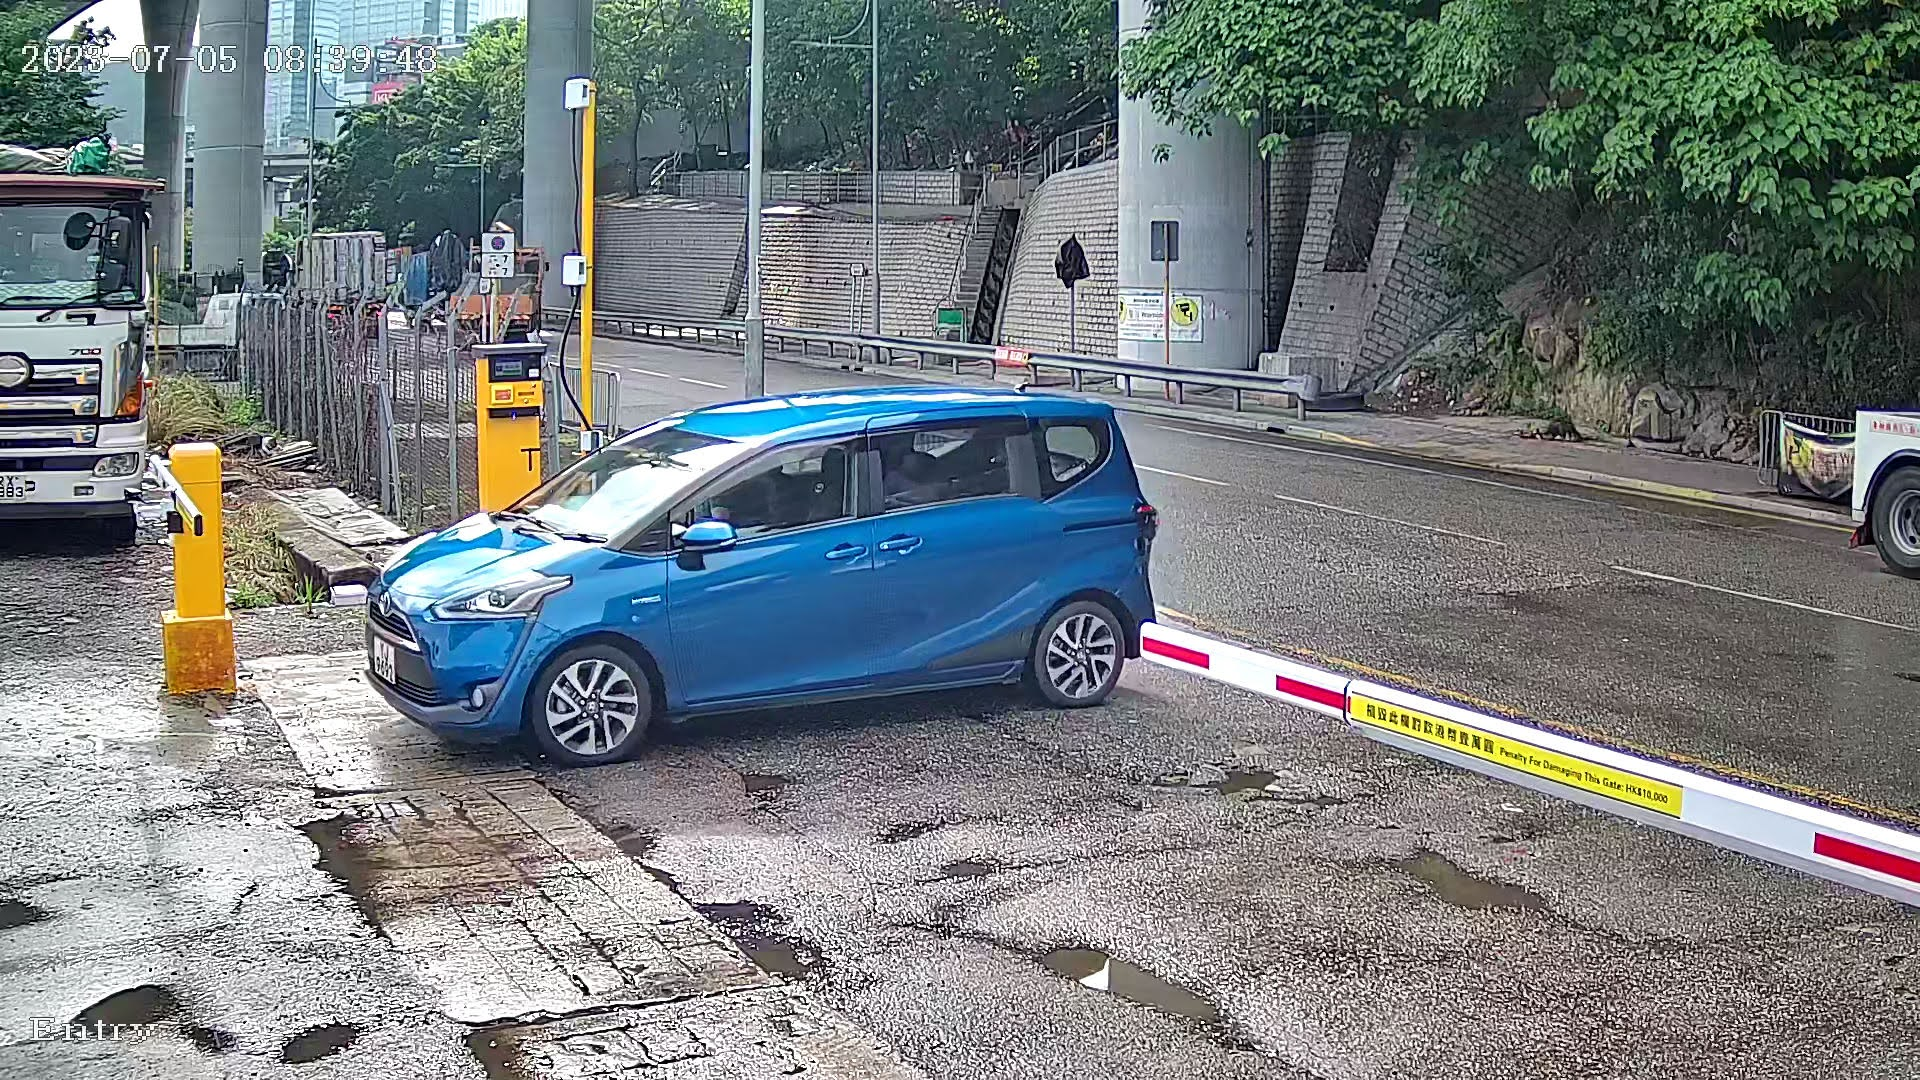privatecar: (331, 367, 1207, 815)
